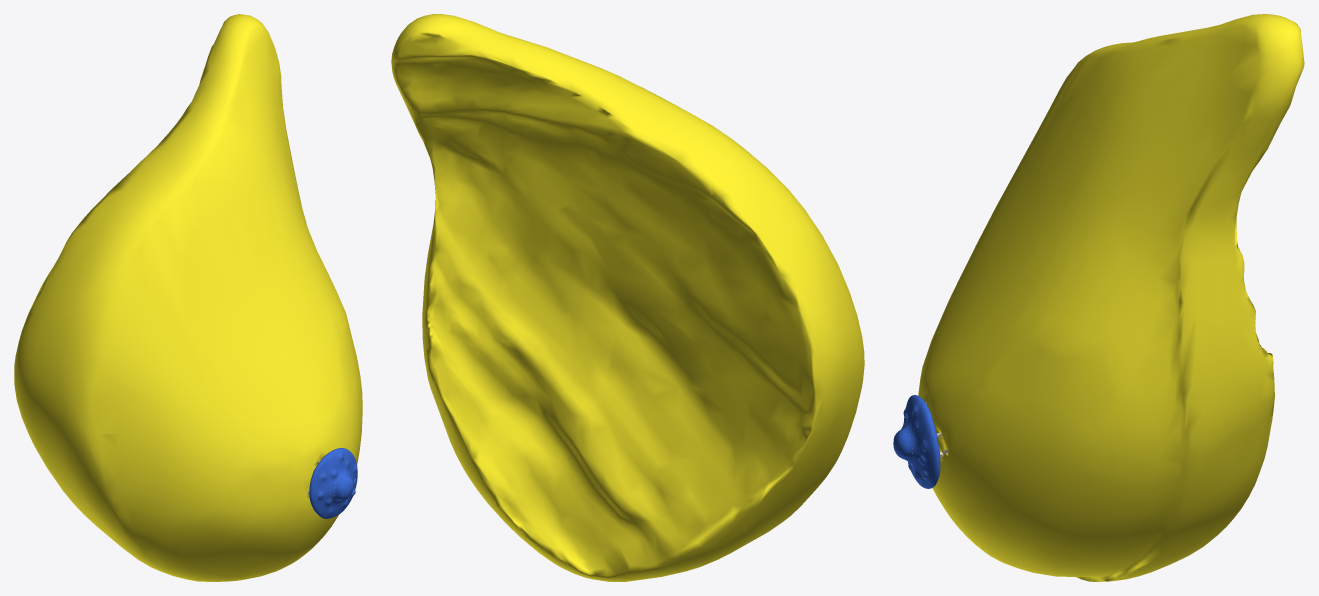
Rendered from 3d-vh-f-mammary-gland-l-40.glb.
3 renders of one model, left to right at view 1: azimuth 30°, elevation 25°; view 2: azimuth 150°, elevation 25°; view 3: azimuth 270°, elevation 25°, orthographic. The views are drawn at different scales.
Parts seen in each view (by area): view 1: VH_F_fat_L, VH_F_areola_L; view 2: VH_F_fat_L; view 3: VH_F_fat_L, VH_F_areola_L, VH_F_nipple_L.
Boxes of the visible parts, <box> form: VH_F_fat_L: <box>14,14,362,581</box>; VH_F_areola_L: <box>309,448,357,518</box>; VH_F_fat_L: <box>391,14,864,581</box>; VH_F_fat_L: <box>918,14,1304,581</box>; VH_F_areola_L: <box>901,395,940,488</box>; VH_F_nipple_L: <box>893,426,913,463</box>.
Size of the model in its own units: 0.1281 by 0.1819 by 0.1119.
